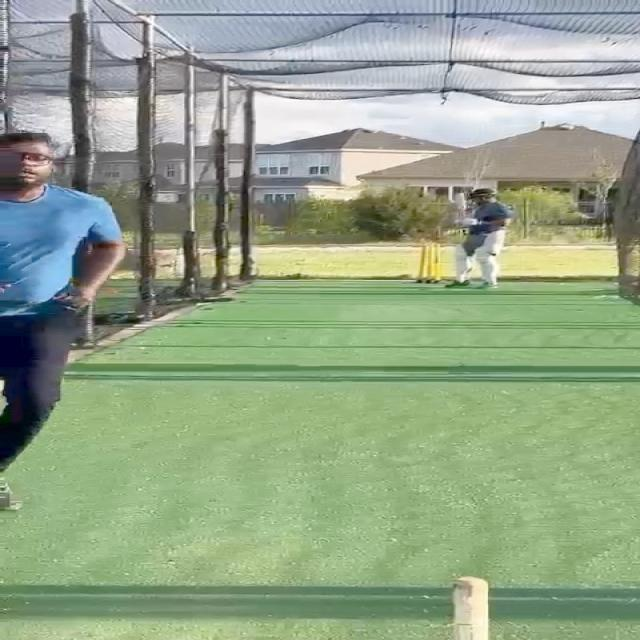batsman: (439, 187, 517, 290)
